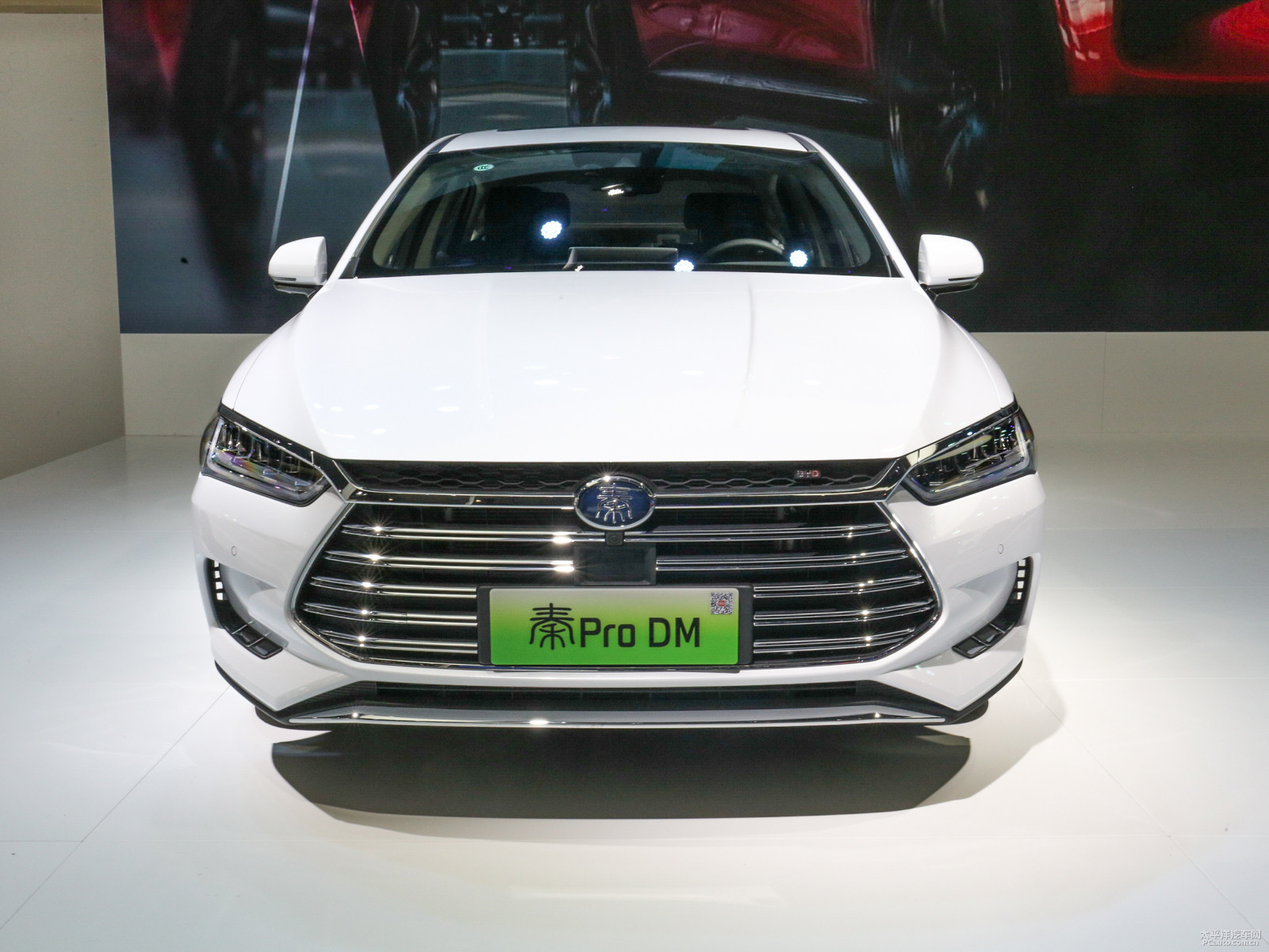BYD Qin: (574, 477, 654, 528)
